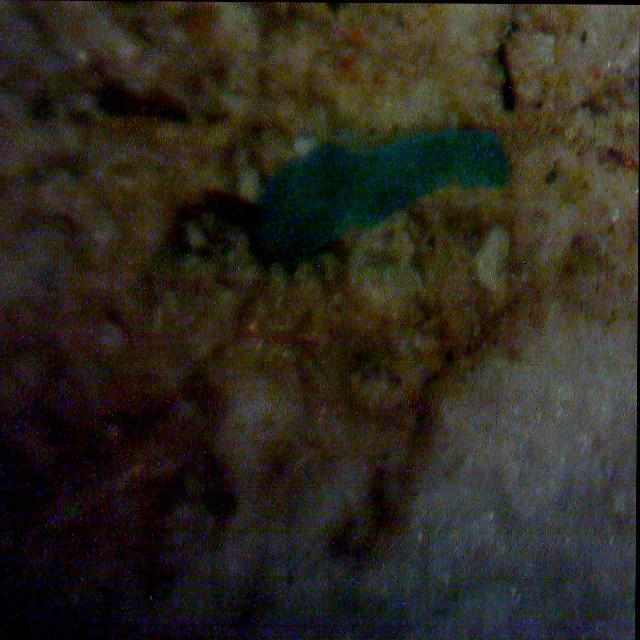microplastic: (250, 123, 516, 271)
